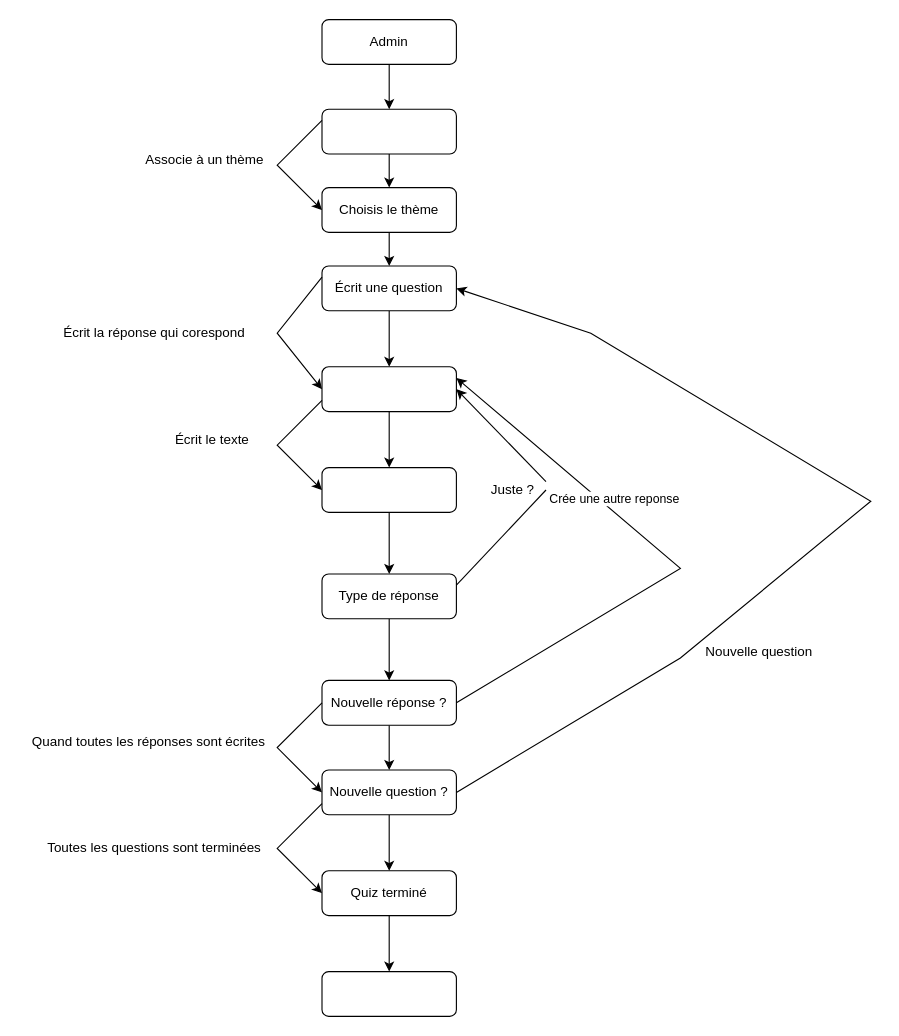
Some shapes in this 899 by 1036 pixel diagram are drawn without their labels. The shapes that lost their labels are listed below. From the top down, each one's centre as x and y in pixels, then its label:
At [388,131]: "Créer un nouveau quiz".
At [388,389]: "Écris une réponse".
At [388,489]: "Texte d'explication".
At [388,993]: "Publier le quiz ?".
